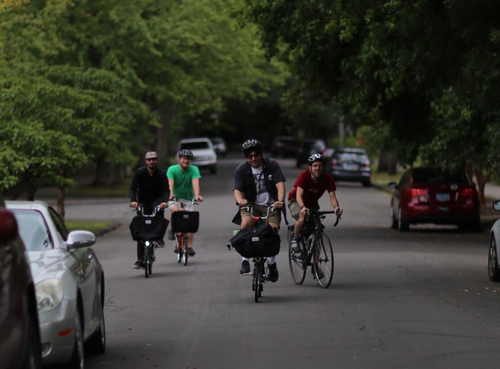bikerider: (224, 136, 289, 314), (282, 147, 348, 289), (125, 143, 171, 280), (160, 144, 208, 268)
